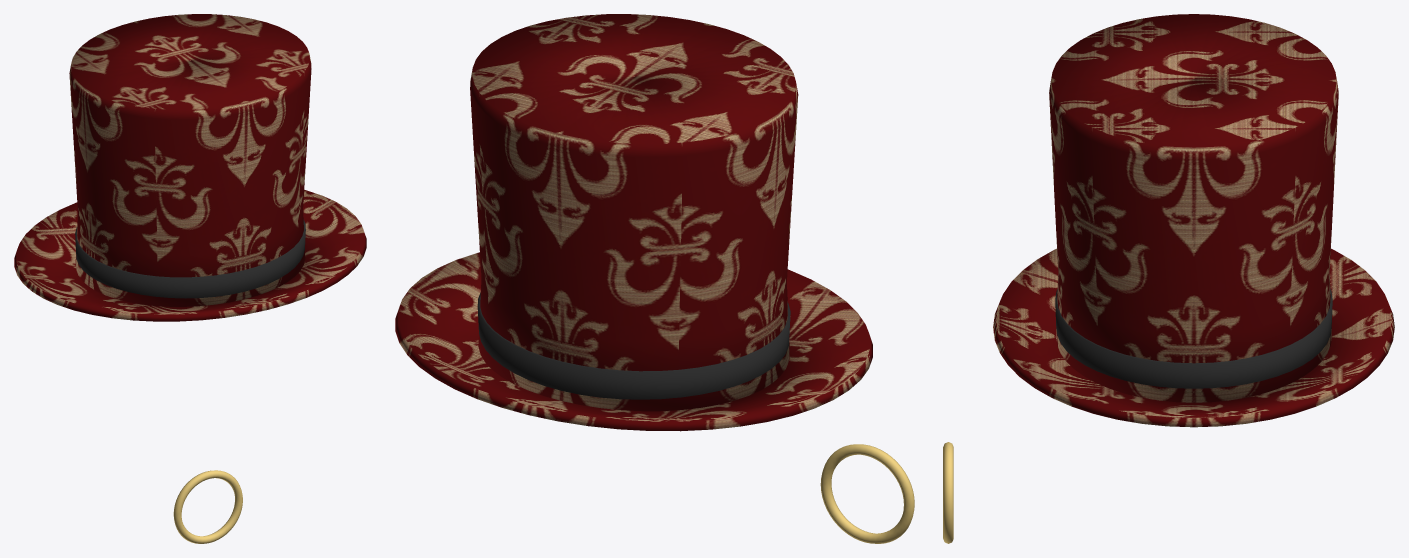
Rendered from tophat2.fbx.
3 renders of one model, left to right at view 1: azimuth 30°, elevation 25°; view 2: azimuth 150°, elevation 25°; view 3: azimuth 270°, elevation 25°, orthographic. The views are drawn at different scales.
Parts seen in each view (by area): view 1: tophat2; view 2: tophat2; view 3: tophat2.
Boxes of the visible parts, <box> form: tophat2: <box>14,14,366,543</box>; tophat2: <box>395,14,914,543</box>; tophat2: <box>943,14,1394,543</box>.
Size of the model in its own units: 0.62 by 0.737 by 0.5925.
Materials: 3 (1 with a texture image).
